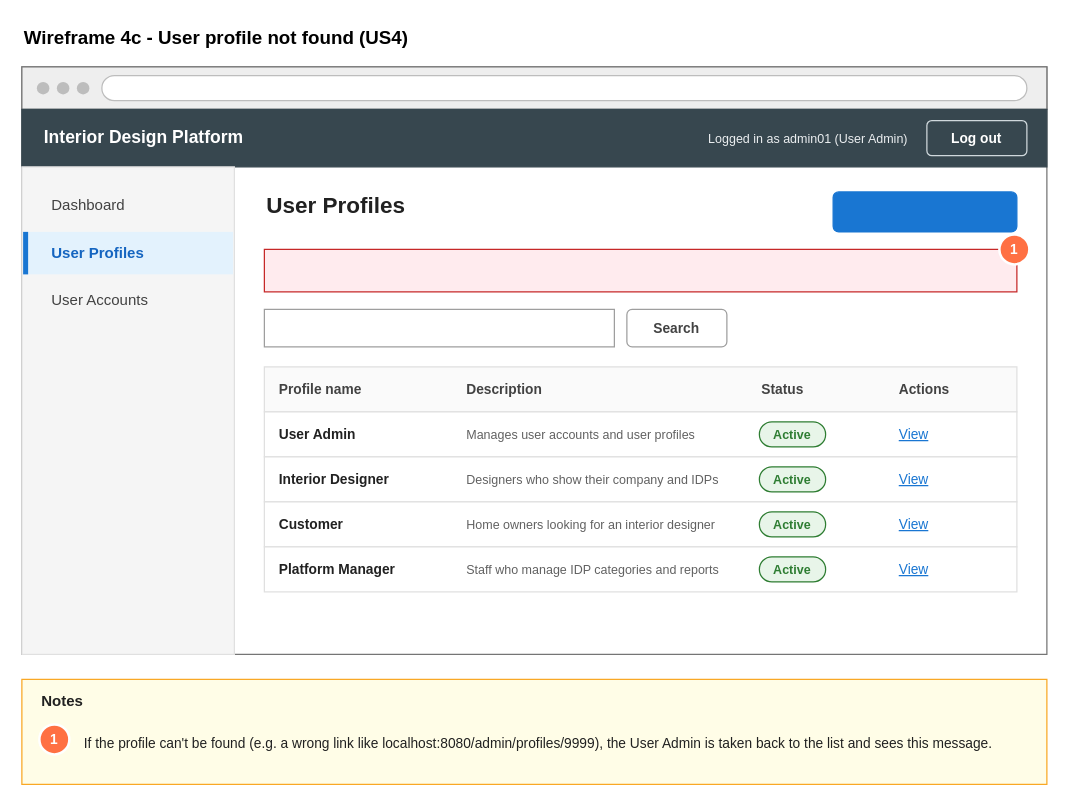
The diagram is 1069 pixels wide and 806 high, and some of its shapes have lost their labels. The box of each missing label's shape, as (x1, y1, x2, y2) in pixels:
+ Create user profile: (832, 191, 1017, 232)
localhost:8080/admin/profiles: (101, 74, 1027, 101)
Search user profiles...: (263, 308, 614, 347)
✖ User profile not found: (263, 248, 1017, 292)
